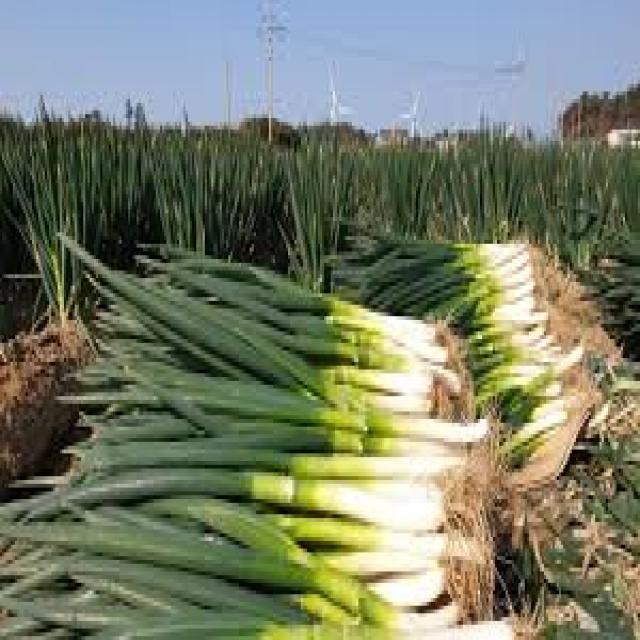spring_onion: (4, 476, 508, 636), (79, 233, 463, 412), (70, 343, 493, 480)
